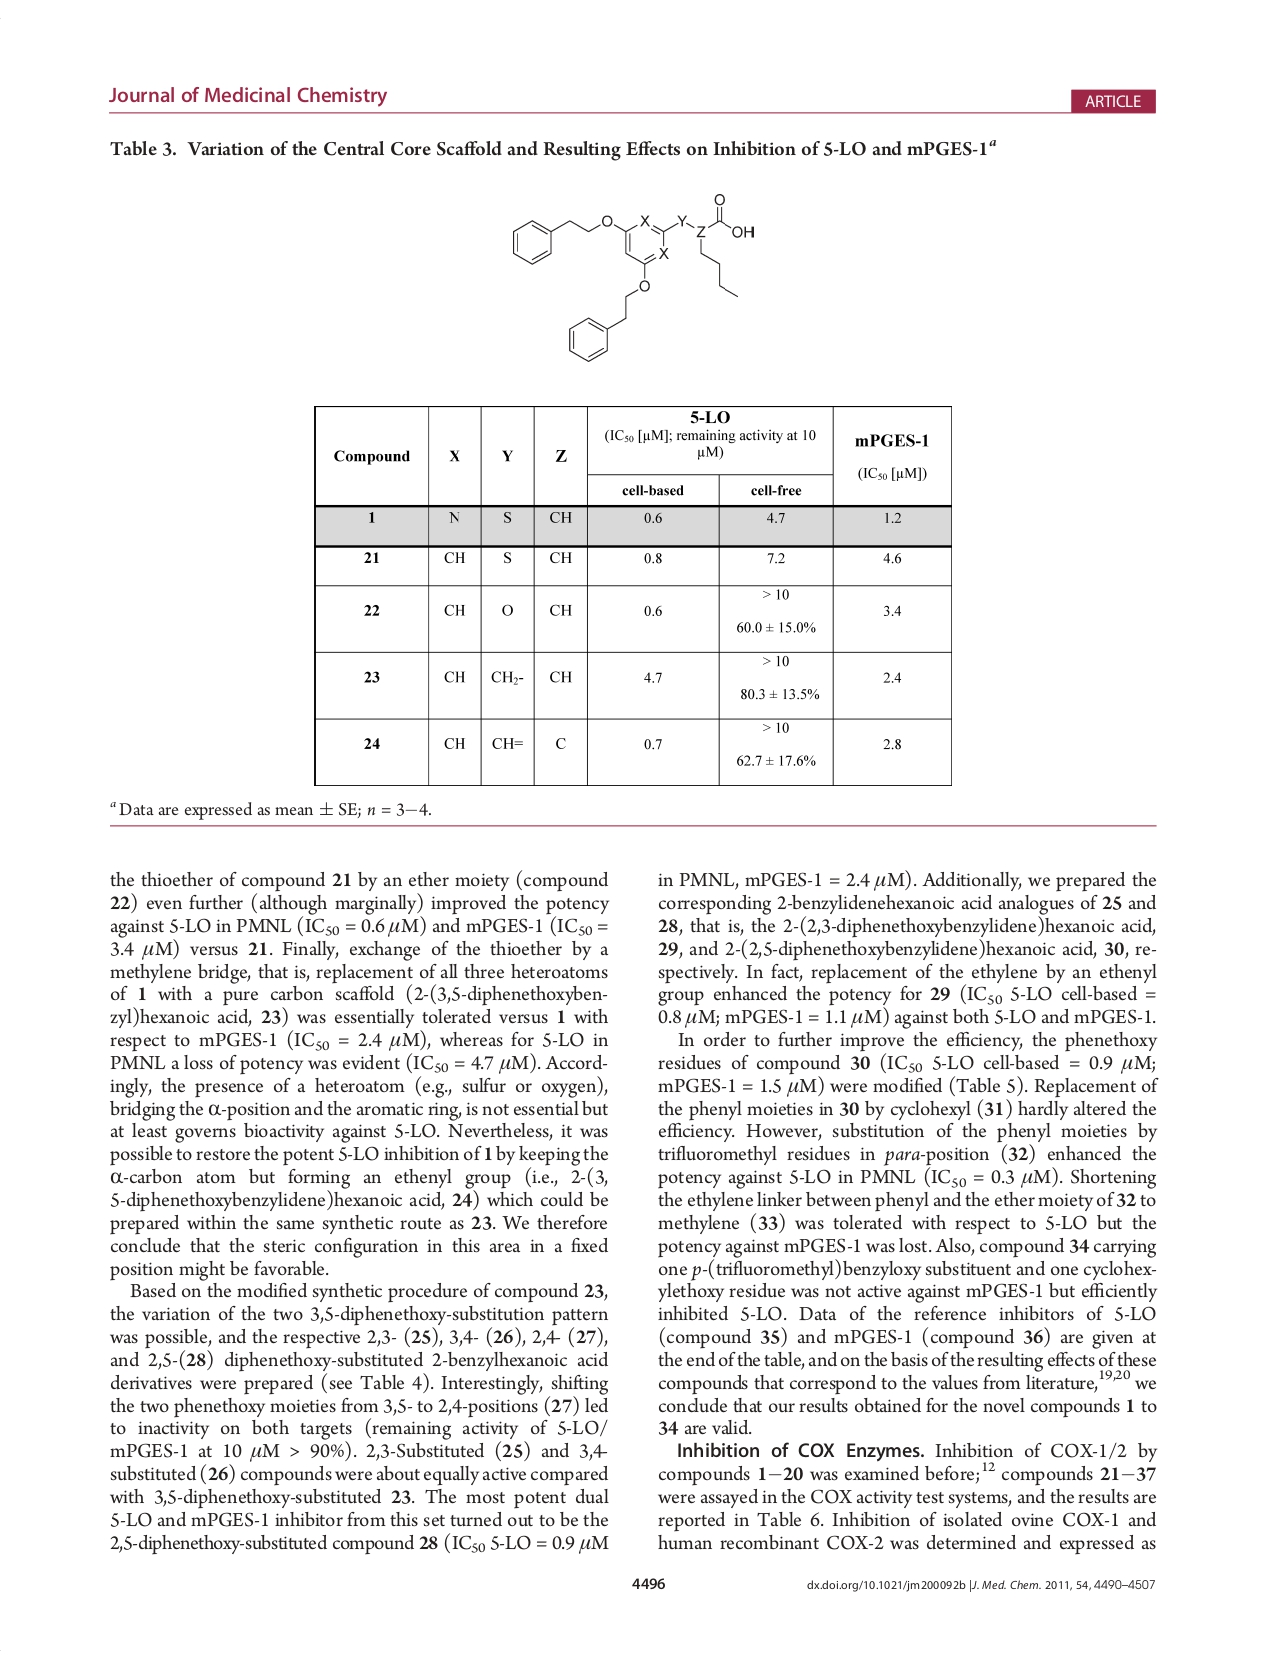exist_molecular: (508, 190, 759, 364)
